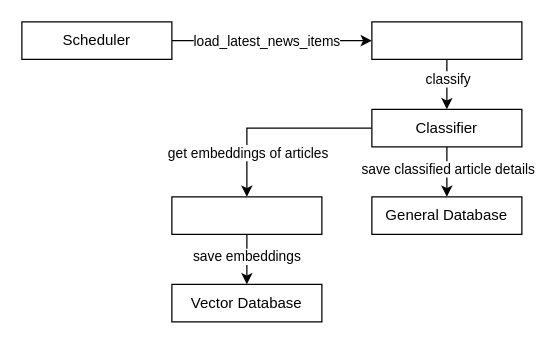
The diagram is 556 pixels wide and 344 high, and some of its shapes have lost their labels. The shapes that lost their labels are listed below. From the top down, each one's centre as x and y in pixels, then its label:
At point 446,40: "Web Spider".
At point 246,215: "Embedding Model".
